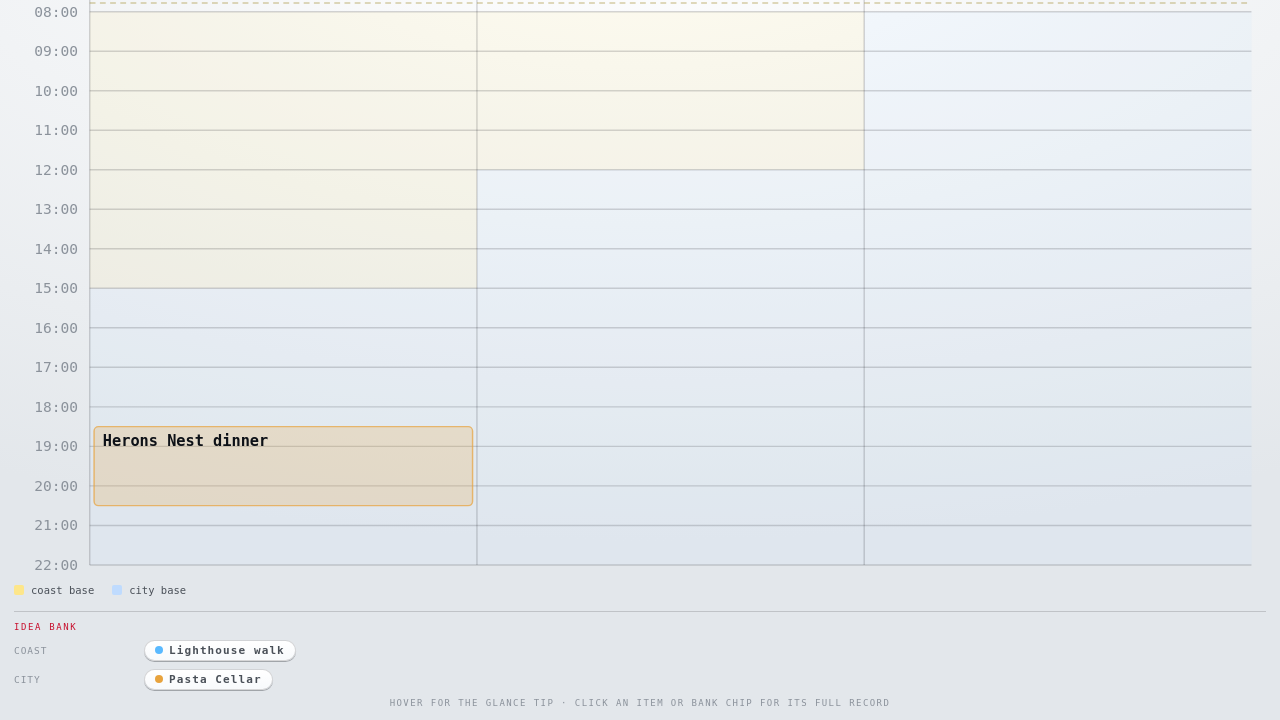
Scenario: Schedule v2 › bank chip click opens the full record with its links row
(page scrolled)
Click the button "Lighthouse walk" at (220, 650), box [144,640,296,661]
(page scrolled)
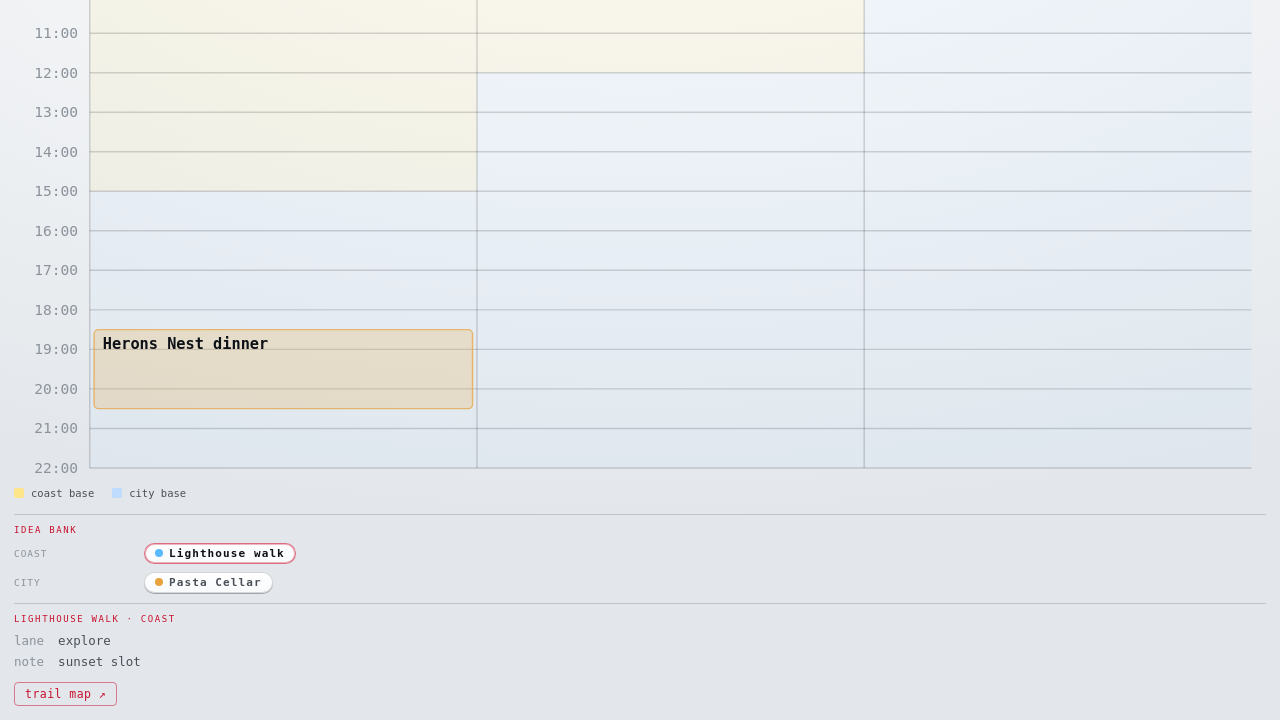
Result: the element that starts with "Lighthouse walk" shows "sunset slot" at [58,654,141,669]
